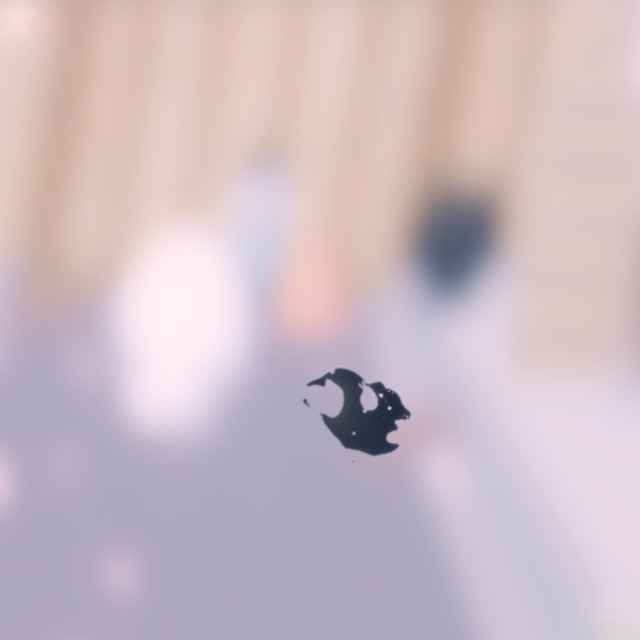urso_preto: (272, 327, 444, 496)
